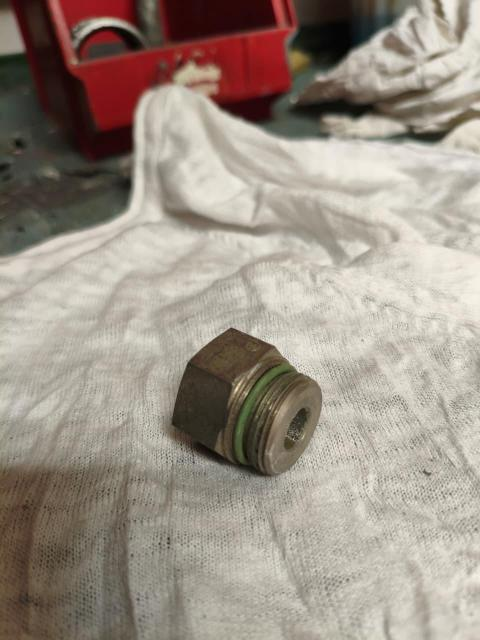Metal: (173, 328, 325, 470)
